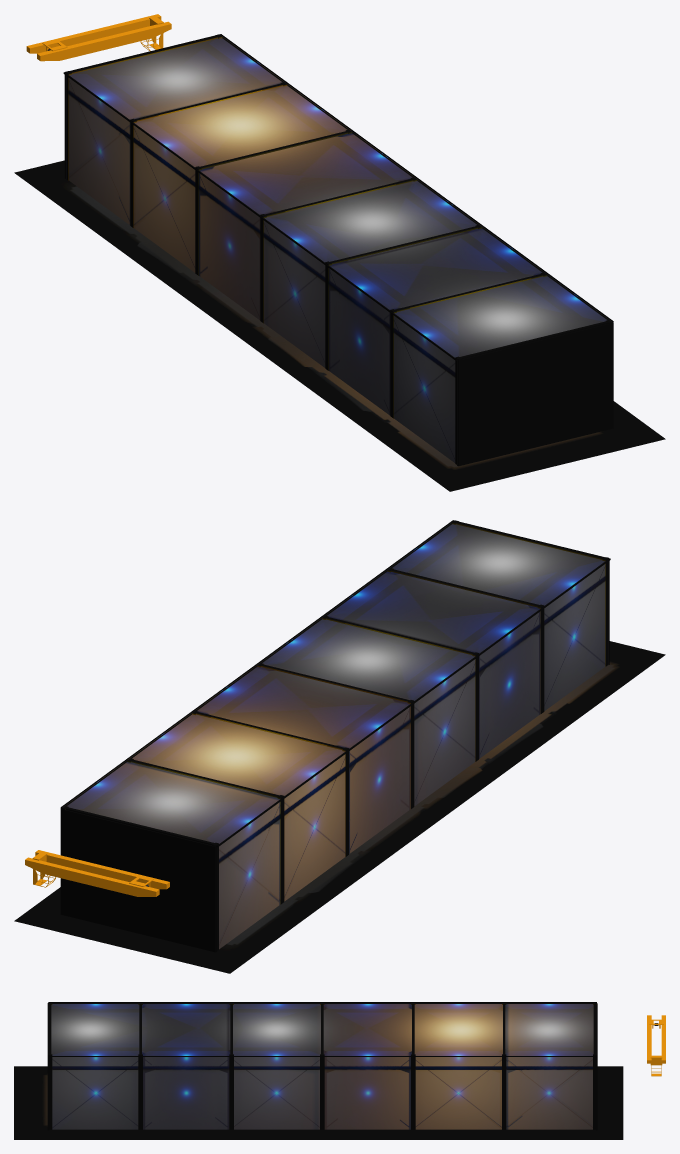
The model's file is exphall.obj.
3 views of the same model, one above another, from view 1: azimuth 30°, elevation 25°; view 2: azimuth 150°, elevation 25°; view 3: azimuth 270°, elevation 25° (orthographic). The views are drawn at different scales.
Parts seen in each view (by area): view 1: Box040, Plane001, Box042, Box046, Box030; view 2: Box040, Plane001, Box042, Box046, Box030; view 3: Box040, Plane001, Box046, Box042, Box030.
Boxes of the visible parts, x1,y1,x2,y2 form: Box040: (63, 34, 613, 465); Plane001: (14, 160, 665, 491); Box042: (65, 73, 613, 466); Box046: (65, 34, 612, 464); Box030: (26, 14, 171, 61); Box040: (60, 520, 610, 951); Plane001: (14, 641, 665, 973); Box042: (60, 521, 608, 952); Box046: (62, 520, 608, 950); Box030: (25, 850, 169, 896); Box040: (48, 1002, 596, 1129); Plane001: (14, 1066, 623, 1139); Box046: (47, 1003, 597, 1129); Box042: (47, 1004, 597, 1130); Box030: (647, 1015, 665, 1065).
Bounding box in the file's own units: 57.32 × 28.16 × 214.
